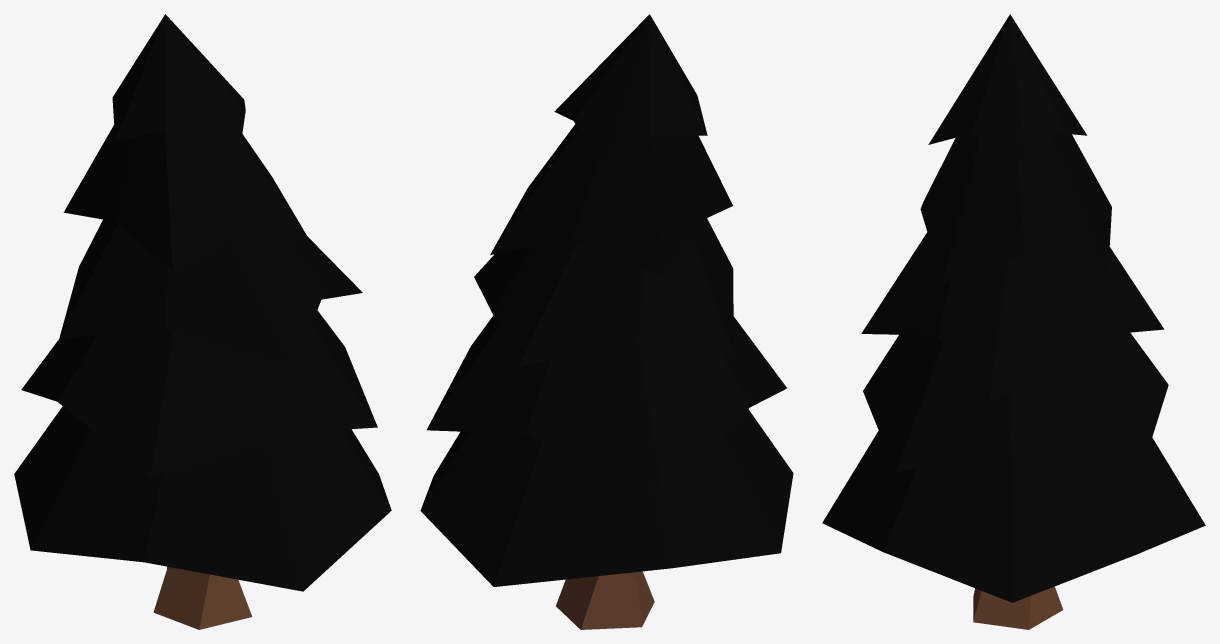
File: Tree_Needle_Large.fbx
3 renders of one model, left to right at view 1: azimuth 30°, elevation 25°; view 2: azimuth 150°, elevation 25°; view 3: azimuth 270°, elevation 25°, orthographic. The views are drawn at different scales.
Visible parts, largest first — view 1: Tree_Needle_Large; view 2: Tree_Needle_Large; view 3: Tree_Needle_Large.
Part boxes in pixels (<box>): Tree_Needle_Large: <box>14,14,391,629</box>; Tree_Needle_Large: <box>420,14,793,629</box>; Tree_Needle_Large: <box>822,14,1205,629</box>.
Bounding box in the file's own units: 0.9515 × 1.58 × 0.9539.
